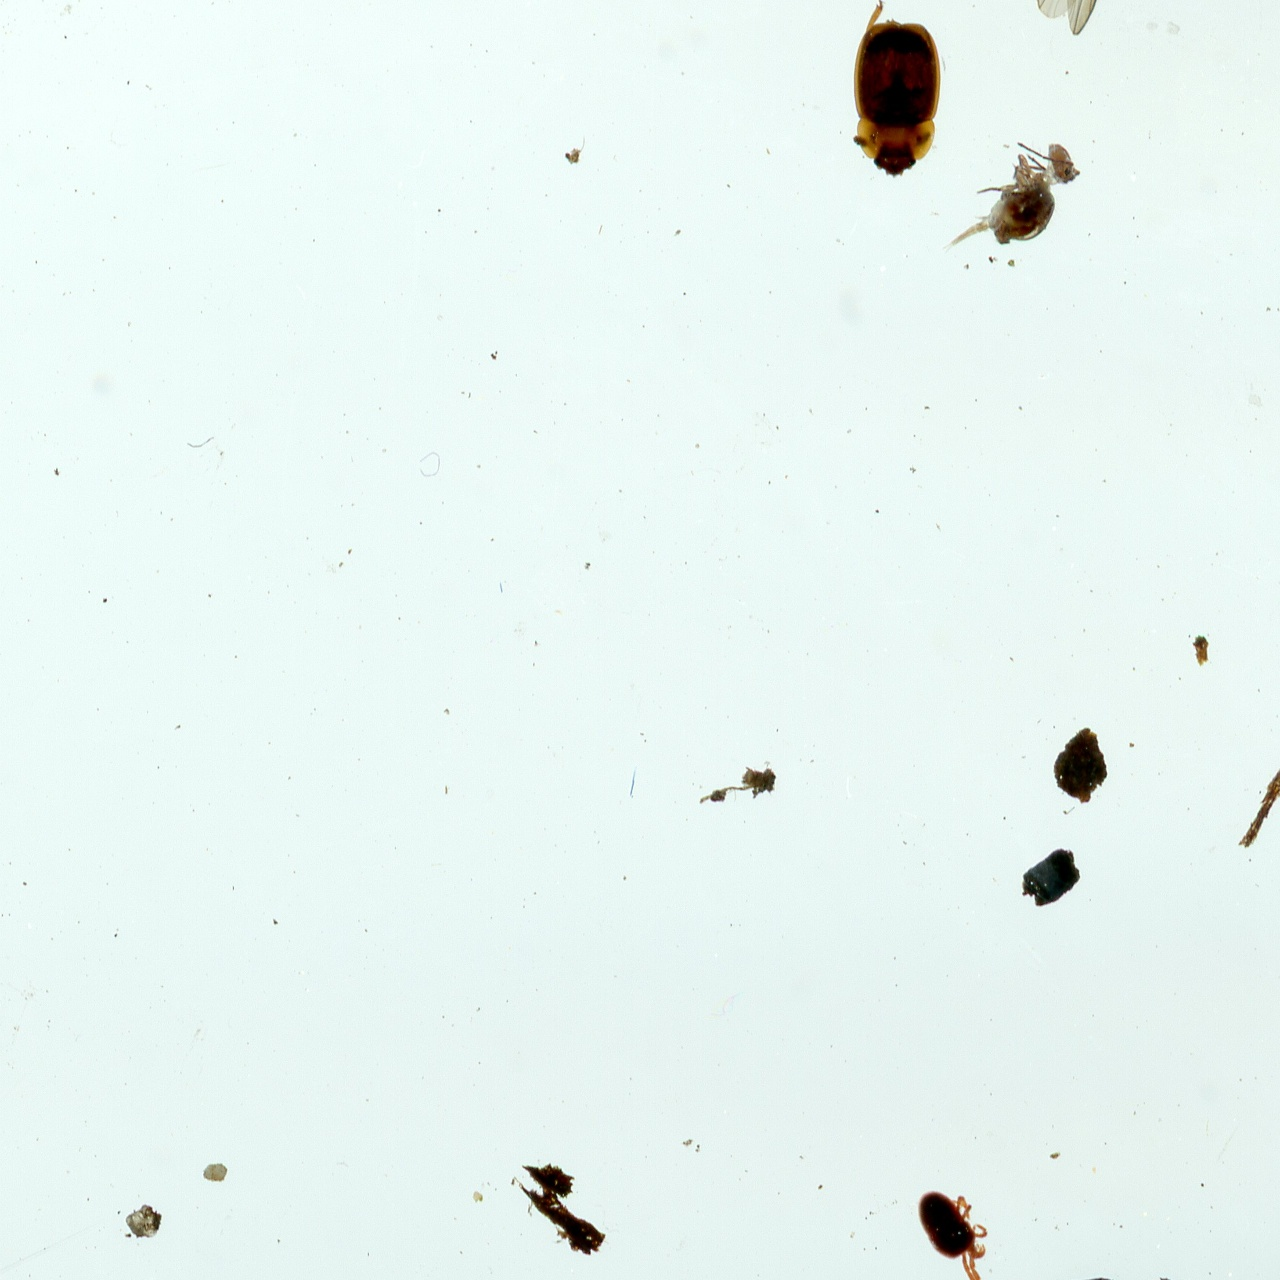arthropod: (843, 0, 945, 178), (945, 139, 1090, 256), (914, 1186, 1015, 1280), (1024, 0, 1185, 32)
